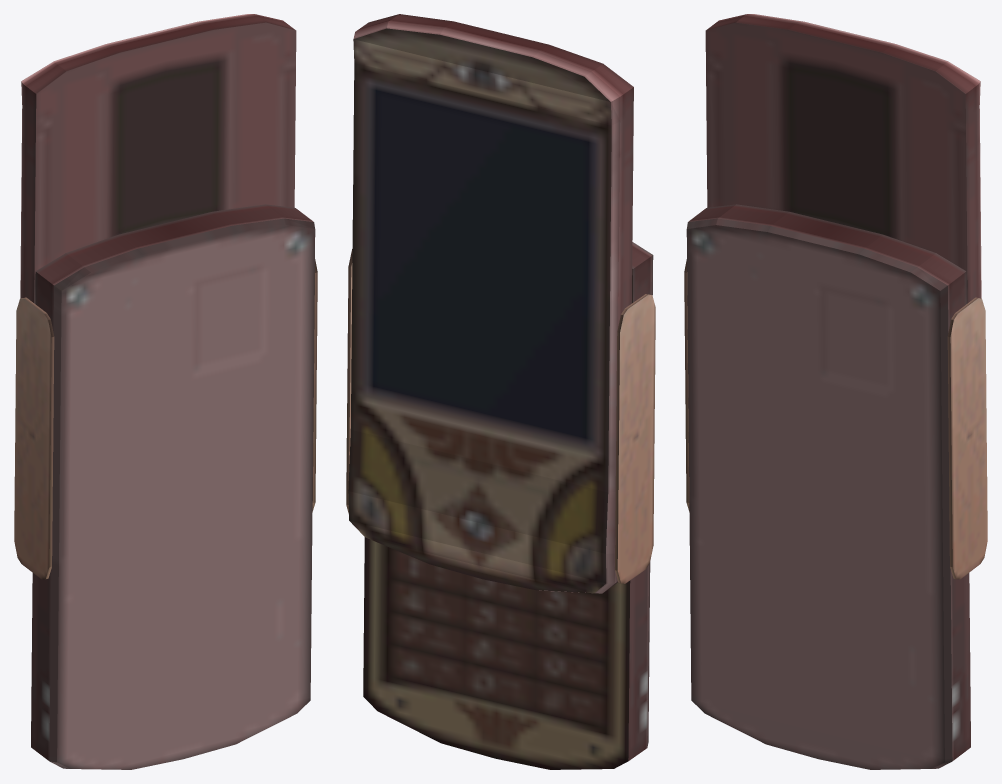
The model's file is shoukan.ico.obj.
The picture shows the model from 3 angles, left to right: view 1: azimuth 30°, elevation 25°; view 2: azimuth 150°, elevation 25°; view 3: azimuth 330°, elevation 25°; orthographic projection.
Bounding box in the file's own units: 1.9 × 4.82 × 0.5676.
Materials: 1 (1 with a texture image).
